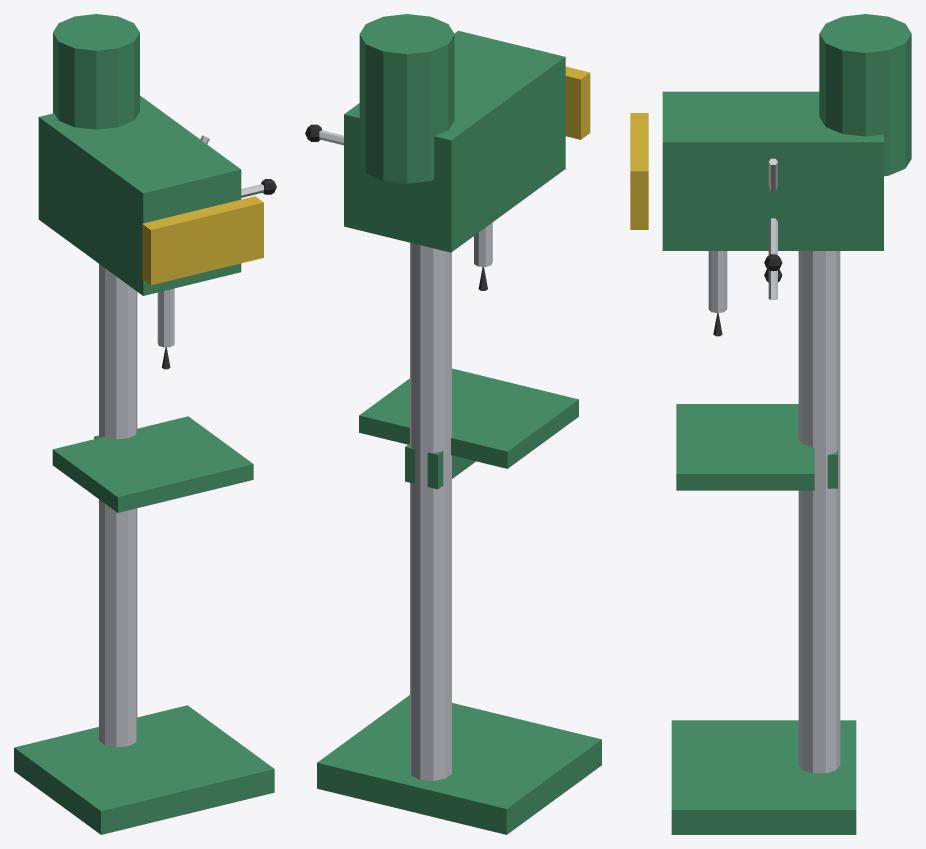
File: drill_press.glb
3 renders of one model, left to right at view 1: azimuth 30°, elevation 25°; view 2: azimuth 150°, elevation 25°; view 3: azimuth 270°, elevation 25°, orthographic. The views are drawn at different scales.
Visible parts, largest first — view 1: drill_press; view 2: drill_press; view 3: drill_press.
Boxes of the visible parts, x1,y1,x2,y2 form: drill_press: [14, 14, 276, 834]; drill_press: [305, 14, 601, 834]; drill_press: [630, 14, 911, 834].
Bounding box in the file's own units: 0.5873 × 1.81 × 0.61.
